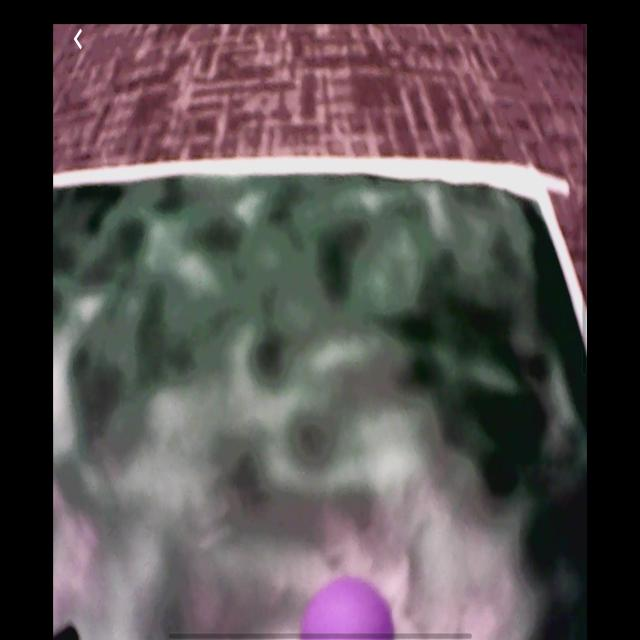ball: (300, 576, 395, 639)
